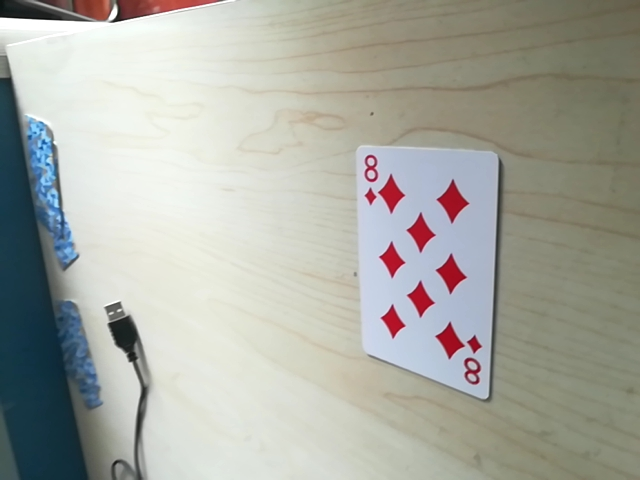fk 8: (459, 333, 492, 395), (354, 149, 379, 211)
